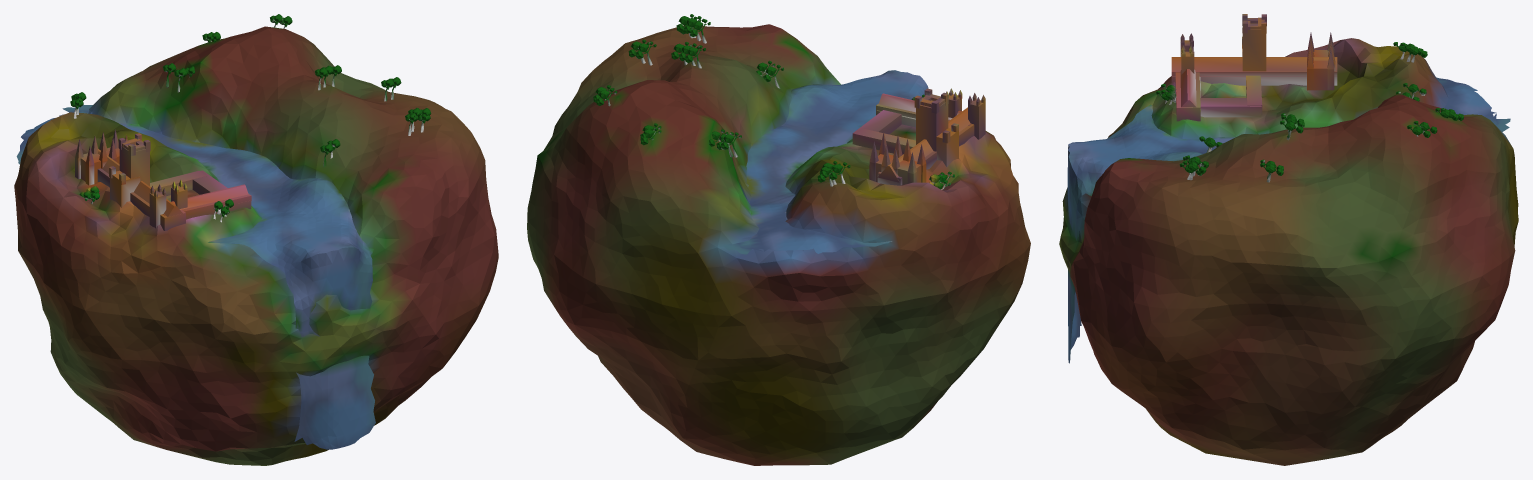
File: wrpm33.fbx
The picture shows the model from 3 angles, left to right: view 1: azimuth 30°, elevation 25°; view 2: azimuth 150°, elevation 25°; view 3: azimuth 270°, elevation 25°; orthographic projection. The views are drawn at different scales.
Visible parts, largest first — view 1: Icosphere; view 2: Icosphere; view 3: Icosphere.
Part boxes in pixels (x1,y1,x2,y2): Icosphere: (14, 14, 498, 465); Icosphere: (527, 14, 1030, 465); Icosphere: (1059, 14, 1518, 465).
Bounding box in the file's own units: 1864 × 1601 × 1798.
